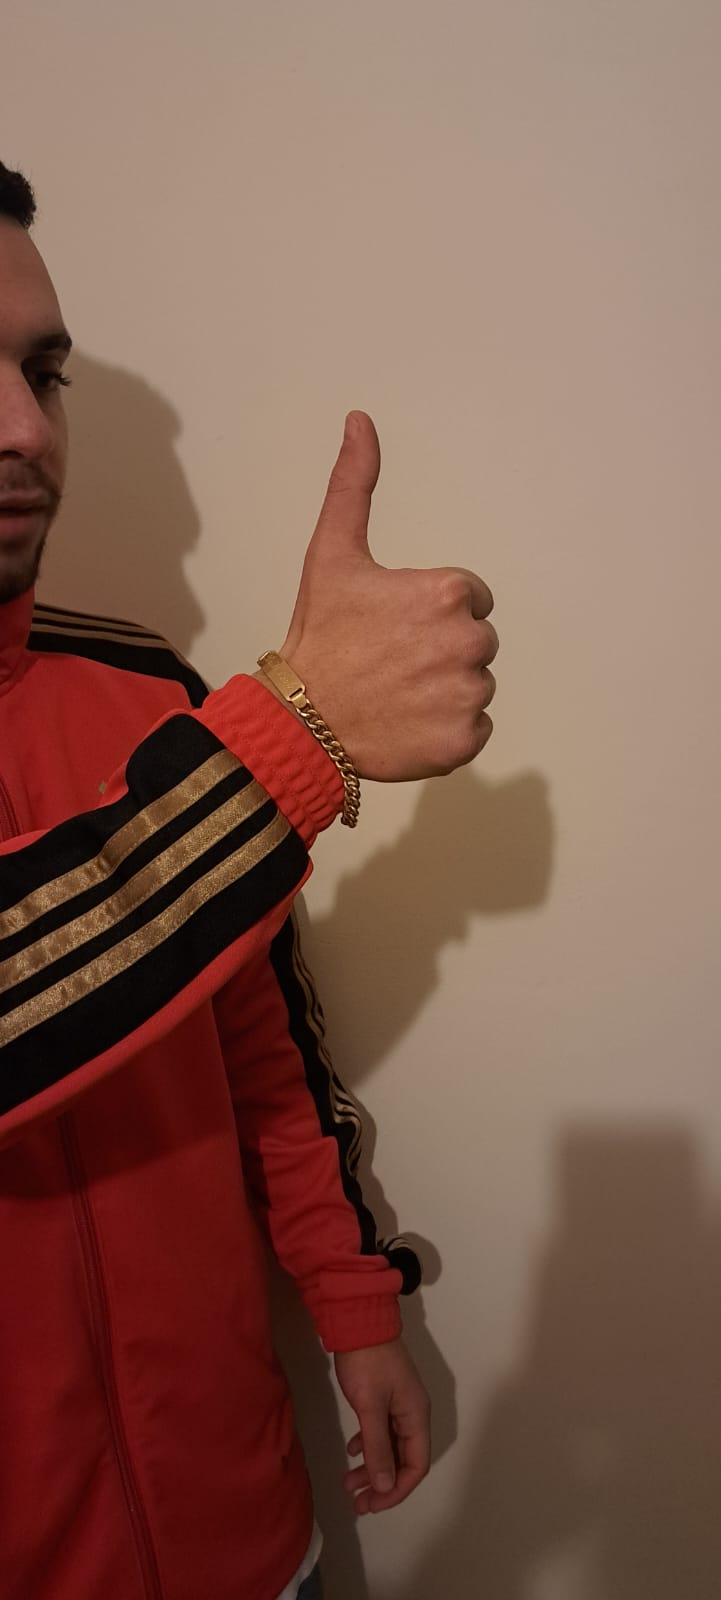okay: (277, 406, 501, 785)
